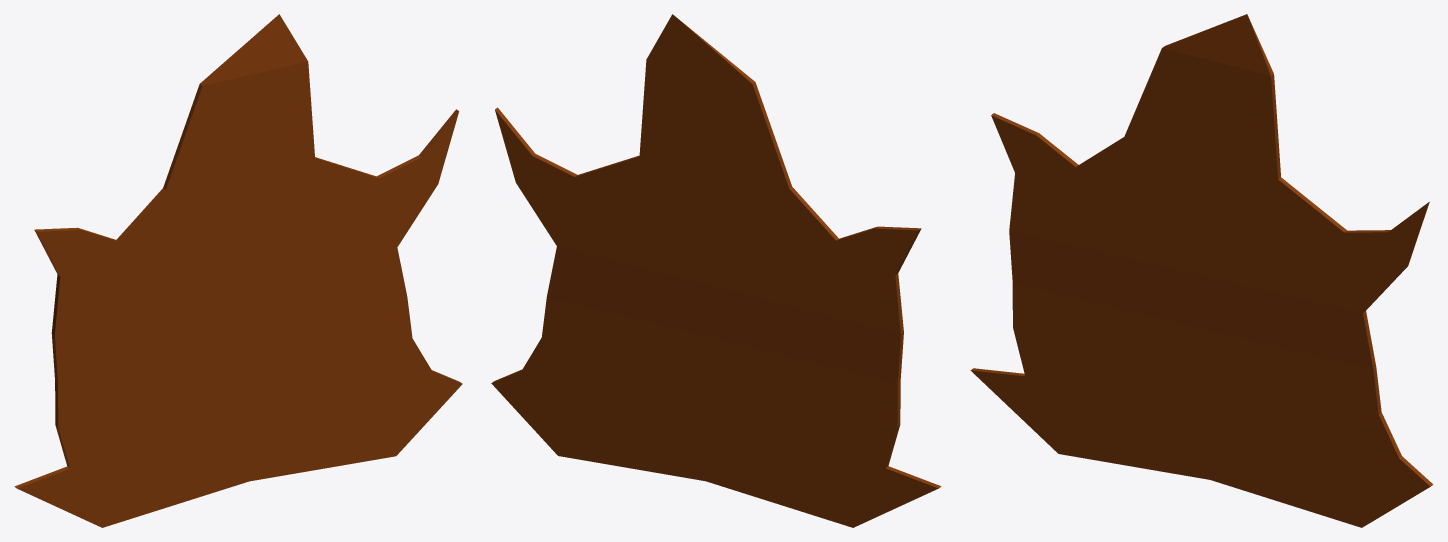
Rendered from Leave_c_02.fbx.
3 renders of one model, left to right at view 1: azimuth 30°, elevation 25°; view 2: azimuth 150°, elevation 25°; view 3: azimuth 330°, elevation 25°, orthographic. The views are drawn at different scales.
Parts seen in each view (by area): view 1: Leave_c_02_LOD0; view 2: Leave_c_02_LOD0; view 3: Leave_c_02_LOD0.
Boxes of the visible parts, x1=… form: Leave_c_02_LOD0: x1=14, y1=14, x2=462, y2=527; Leave_c_02_LOD0: x1=491, y1=14, x2=941, y2=527; Leave_c_02_LOD0: x1=970, y1=14, x2=1433, y2=527.
Size of what is drawn, in the model's own units: 2.32 by 2.33 by 0.0276.
